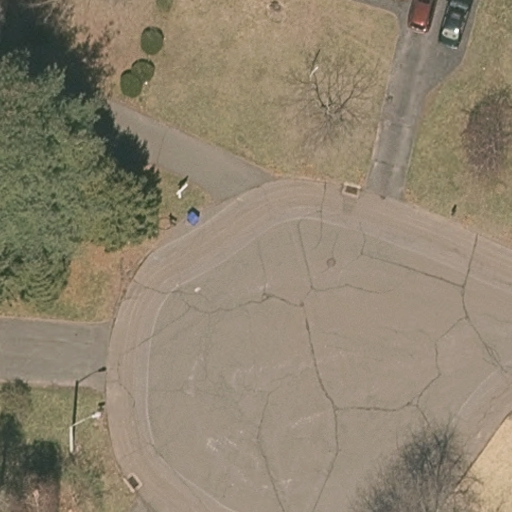DT: (66, 418, 80, 455)
